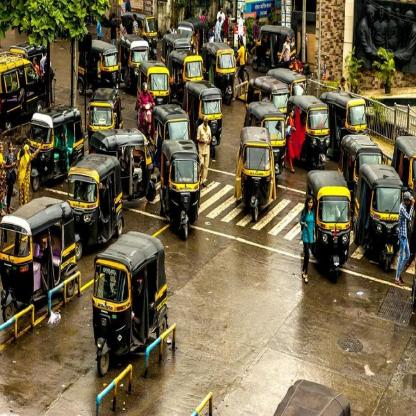auto-rikshaw: (89, 230, 169, 370), (0, 198, 78, 310), (358, 154, 406, 290), (306, 164, 354, 296), (62, 151, 128, 243), (159, 133, 207, 249), (237, 112, 277, 236), (25, 106, 91, 180), (320, 82, 372, 162), (243, 92, 289, 178), (284, 92, 330, 168), (250, 12, 298, 80), (341, 130, 387, 200), (182, 74, 222, 152), (243, 62, 289, 122), (263, 51, 313, 106), (78, 36, 120, 92), (200, 38, 240, 96), (89, 80, 125, 142), (147, 100, 189, 152), (138, 54, 172, 118), (118, 24, 150, 86), (168, 45, 204, 89), (162, 29, 192, 51)
